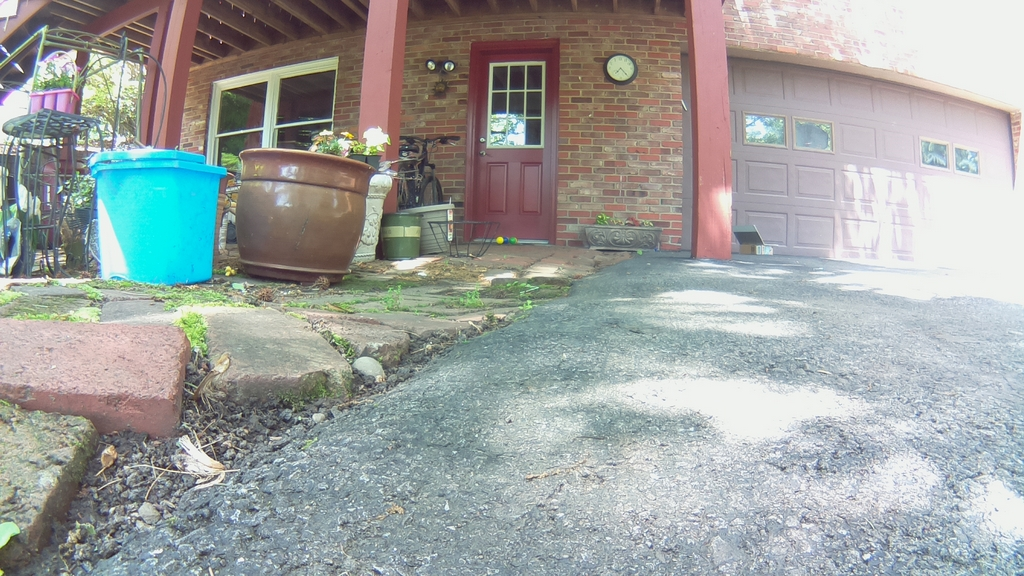ball: (496, 236, 503, 245)
